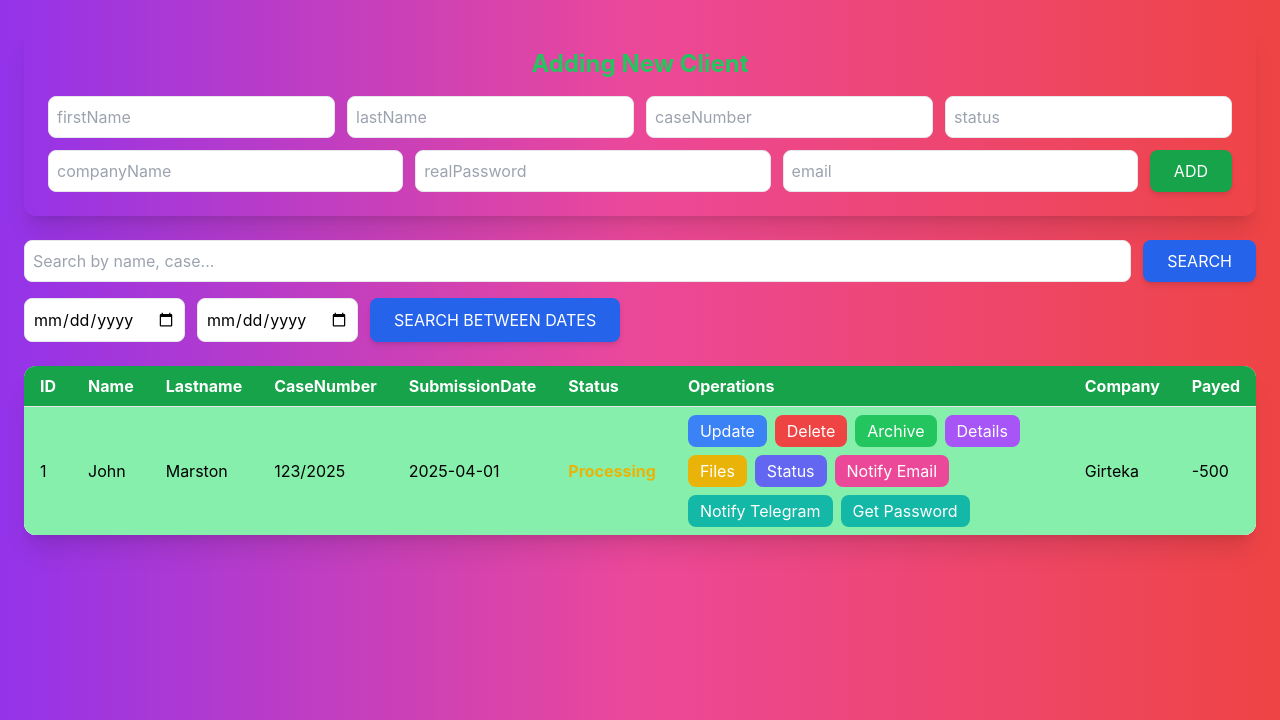
it: ActualClientsList - handleDelete, handleArchive ,handleUpdate, fetchClientDetails, updateClientNote › updates client when all prompt fields are provided
The image size is (1280, 720).
Expected: the text "John" is shown, [72,406,150,535]
Click the button "Update".
click(727, 431)  # box [688,415,767,447]
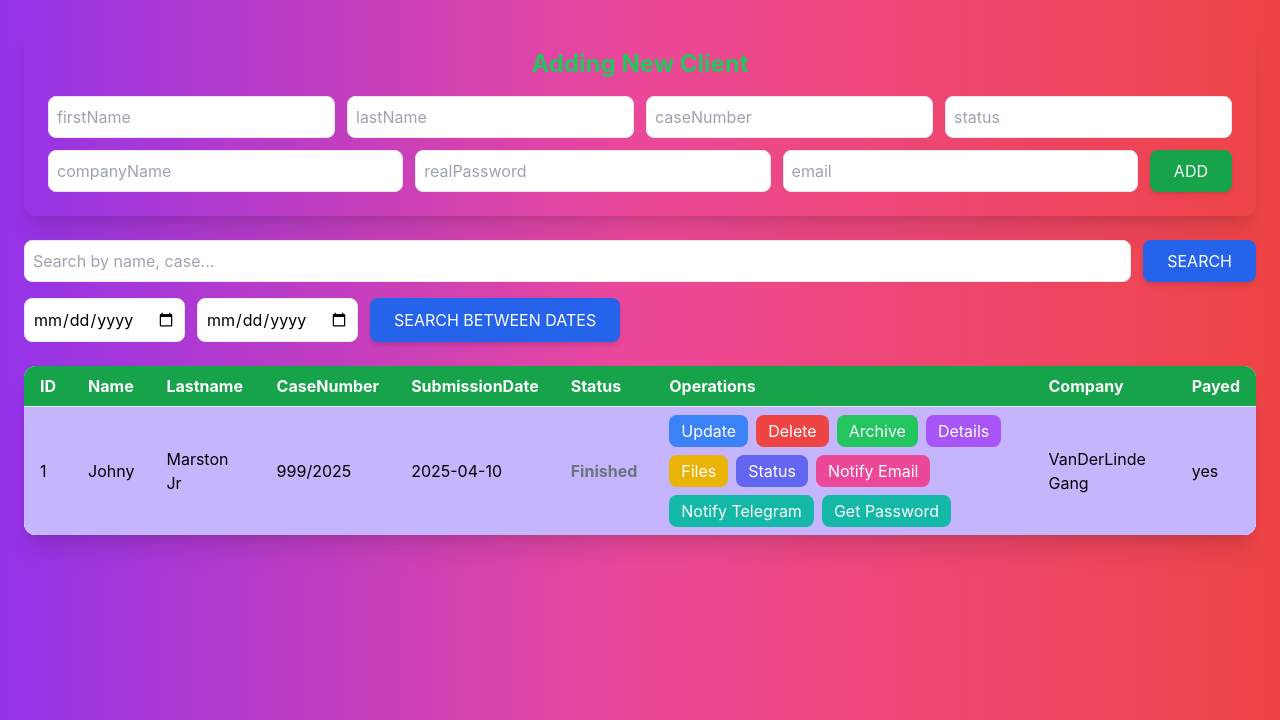
Now the text "Johny" is shown, box [72,406,150,535]
